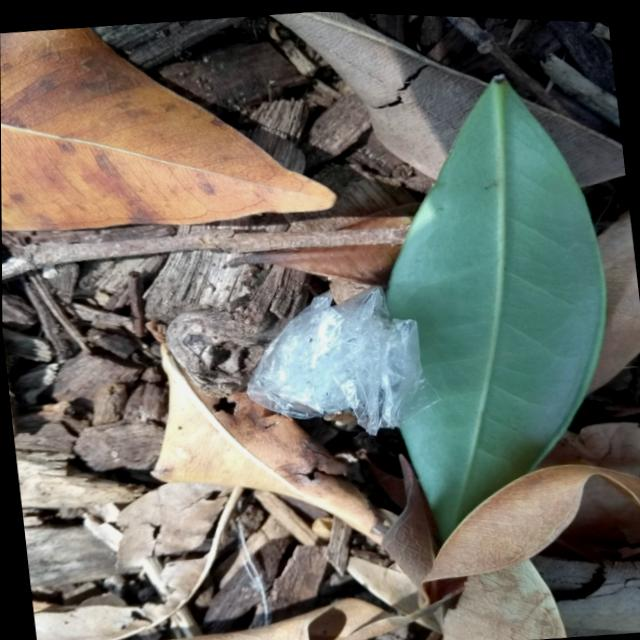Plastic: (216, 250, 446, 457)
